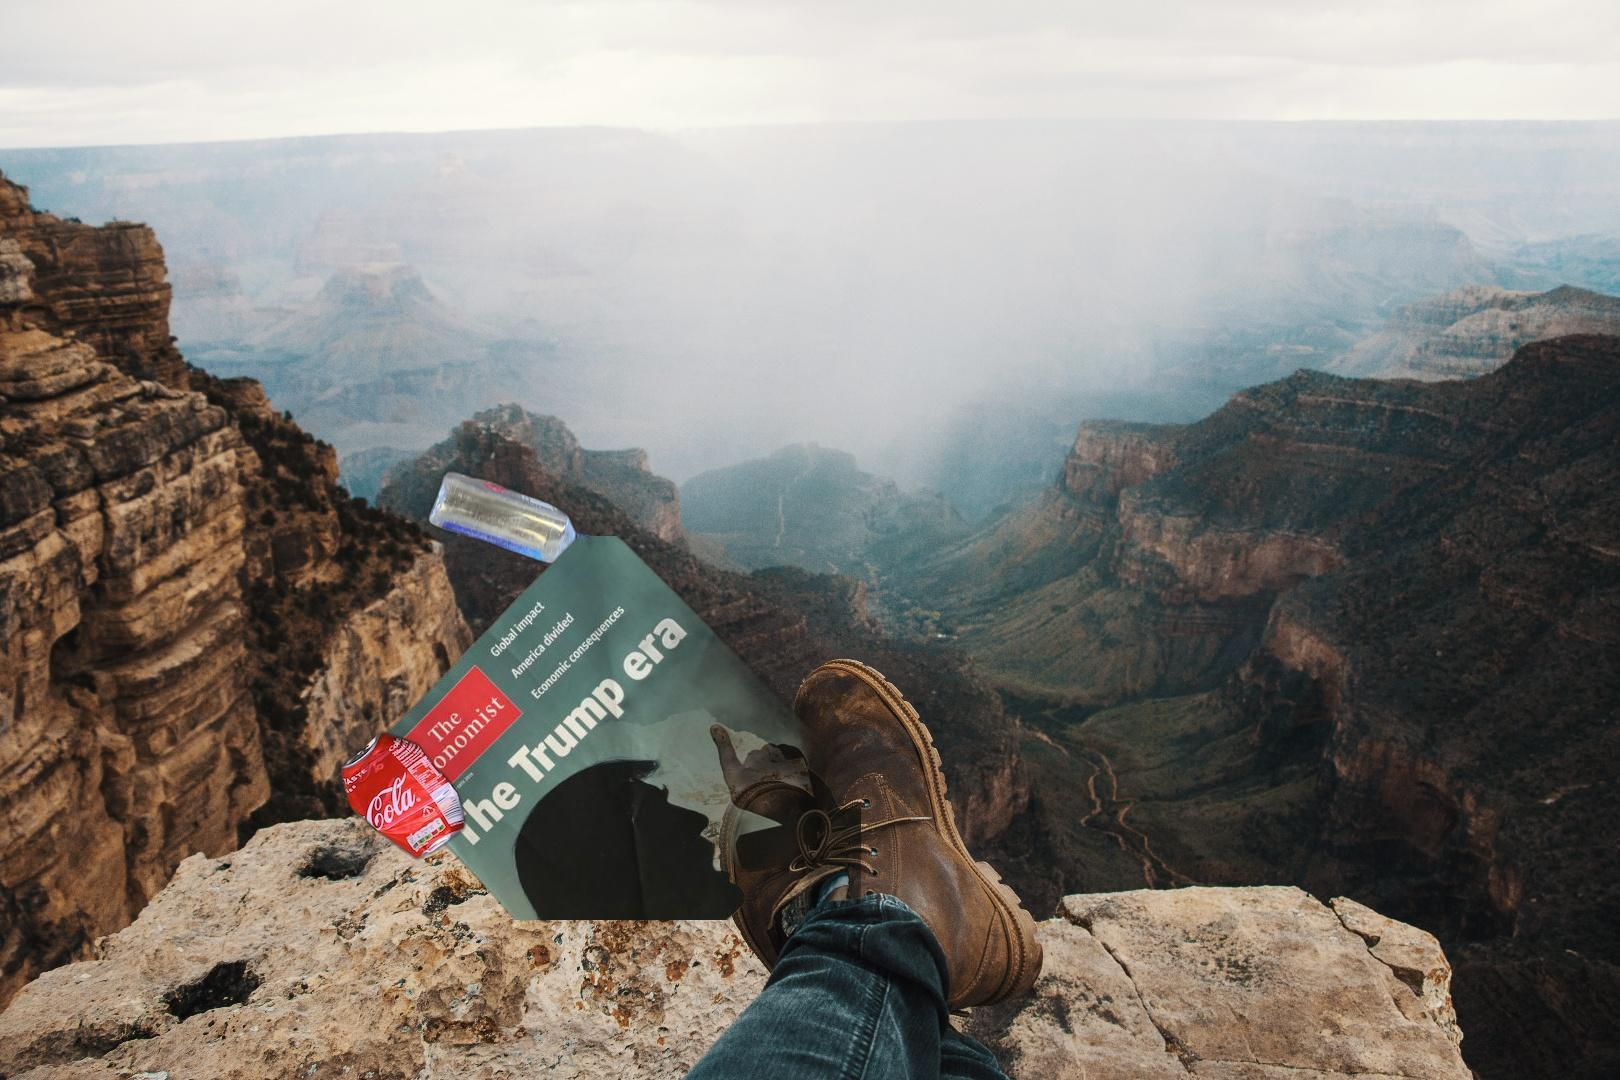metal-cans: (336, 724, 469, 865)
paper: (350, 536, 861, 920)
plastic-bottles: (423, 466, 600, 567)
